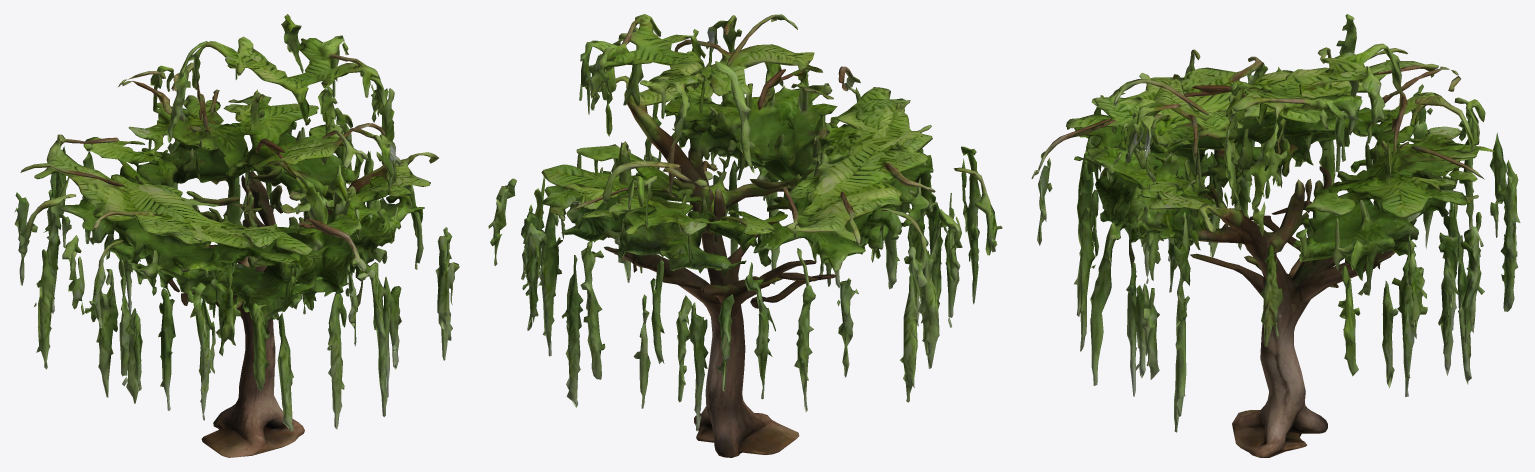
Rendered from nature-tree-willow.glb.
3 views of the same model, side by side, from view 1: azimuth 30°, elevation 25°; view 2: azimuth 150°, elevation 25°; view 3: azimuth 270°, elevation 25° (orthographic). The views are drawn at different scales.
Visible parts, largest first — view 1: tripo_node_2fde7c0e-8f1c-46f6-a169-ddacb75e4d52; view 2: tripo_node_2fde7c0e-8f1c-46f6-a169-ddacb75e4d52; view 3: tripo_node_2fde7c0e-8f1c-46f6-a169-ddacb75e4d52.
Part boxes in pixels (x1,y1,x2,y2): tripo_node_2fde7c0e-8f1c-46f6-a169-ddacb75e4d52: (14, 14, 459, 457); tripo_node_2fde7c0e-8f1c-46f6-a169-ddacb75e4d52: (488, 14, 1002, 457); tripo_node_2fde7c0e-8f1c-46f6-a169-ddacb75e4d52: (1031, 14, 1520, 457).
Bounding box in the file's own units: 8.21 × 7.99 × 8.59.
1 material, 1 textured.
